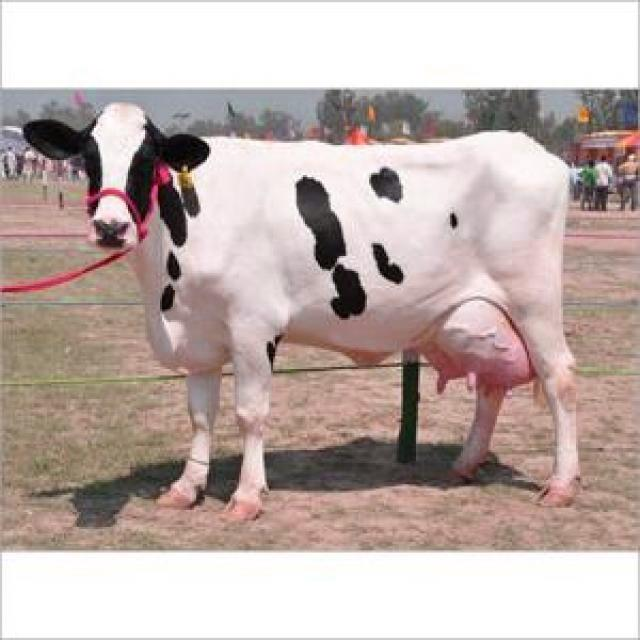cow: (25, 102, 578, 519)
